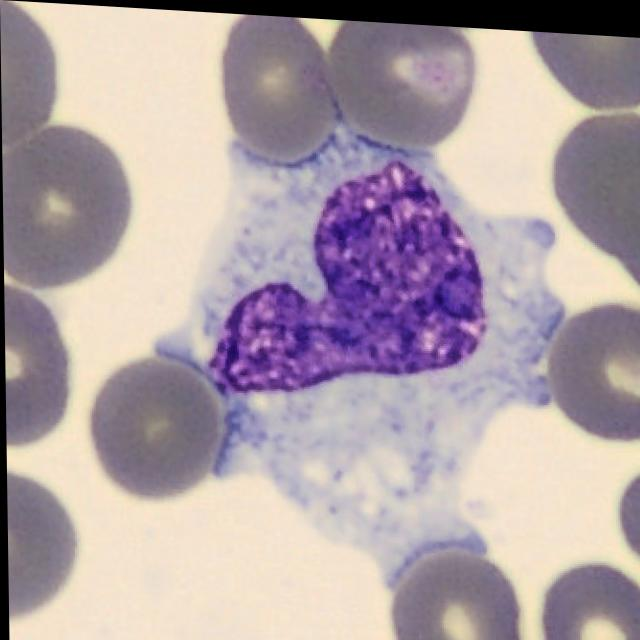Monocito: (157, 110, 563, 585)
